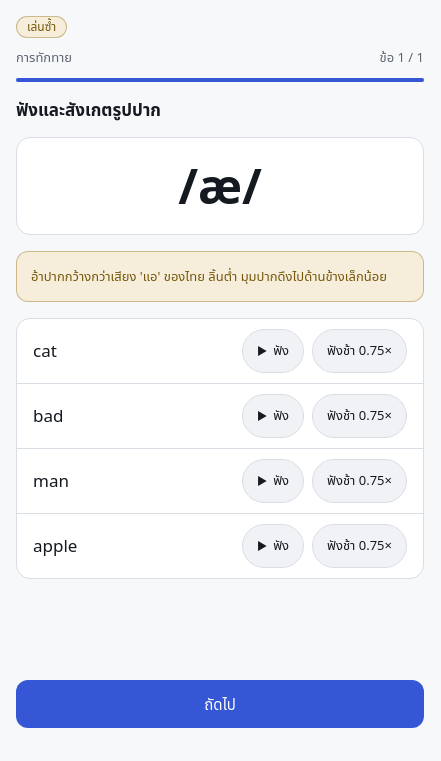
LessonPlayer in practice mode › an intro-only whole lesson stores no attempt: the server says not counted, and the screen says no answer was saved
The image size is (441, 761).
Click the button "ถัดไป" at x=220, y=704, box [16,680,424,728]
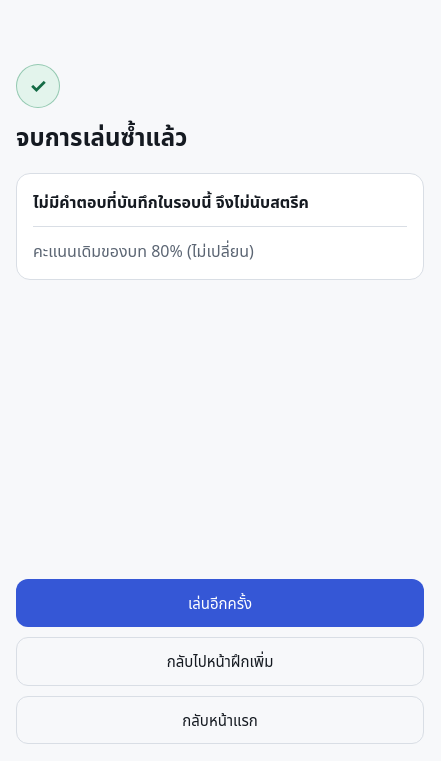
Check: the heading "จบการเล่นซ้ำแล้ว" is shown, box [16,120,187,153]
Check: the text "ไม่มีคำตอบที่บันทึกในรอบนี้ จึงไม่นับสตรีค" is shown, box [33,178,407,227]
